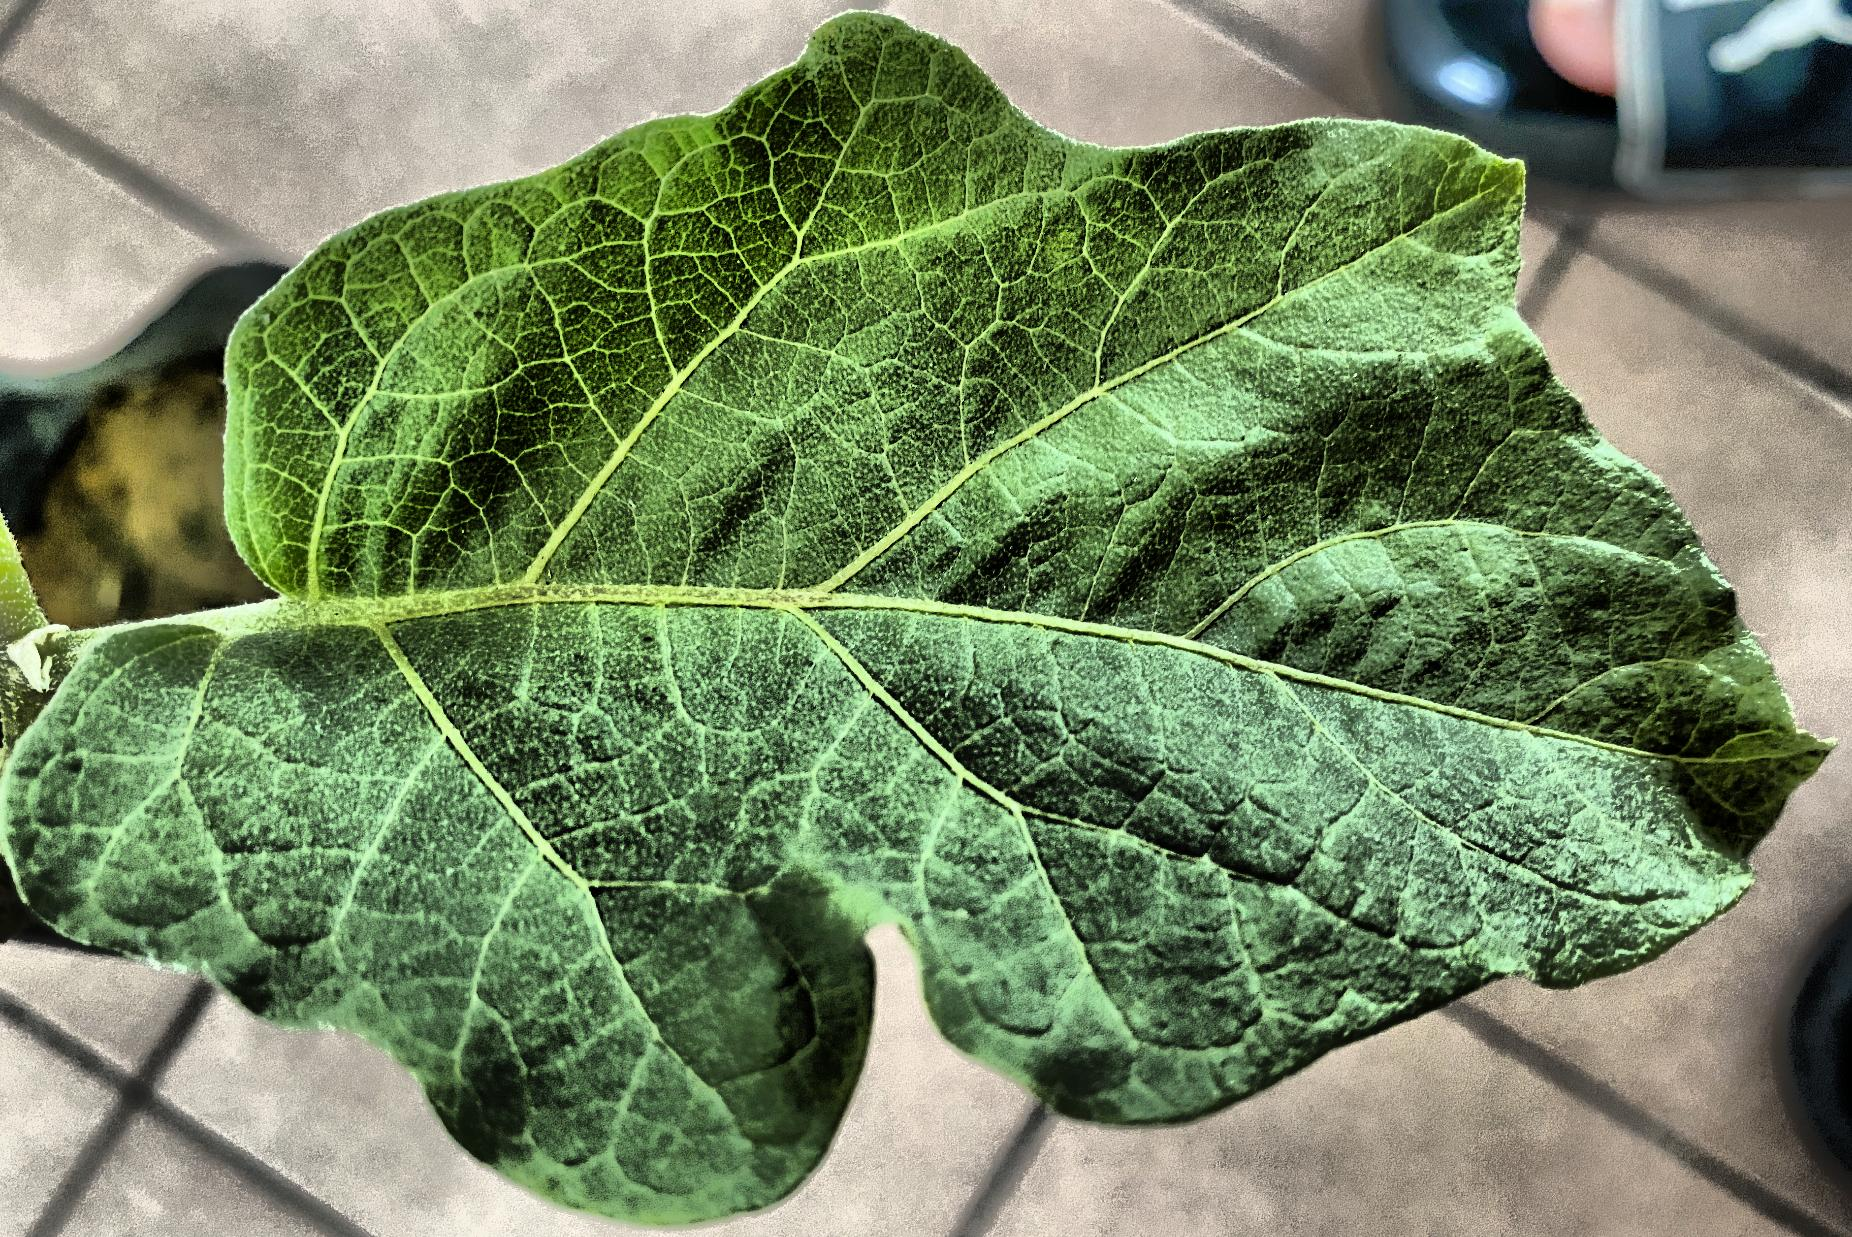HEALTHY: (0, 1, 1852, 1237)
